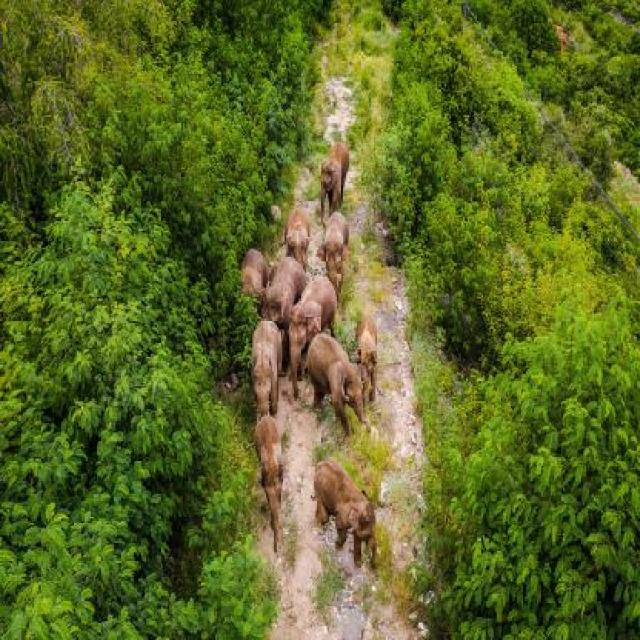elephant: (308, 458, 379, 587), (284, 271, 344, 369), (248, 424, 284, 550), (305, 355, 370, 422), (346, 301, 388, 388), (214, 246, 269, 303), (242, 328, 278, 415), (319, 132, 350, 222), (260, 258, 305, 320), (318, 214, 352, 278), (287, 198, 313, 256), (315, 190, 316, 210)
